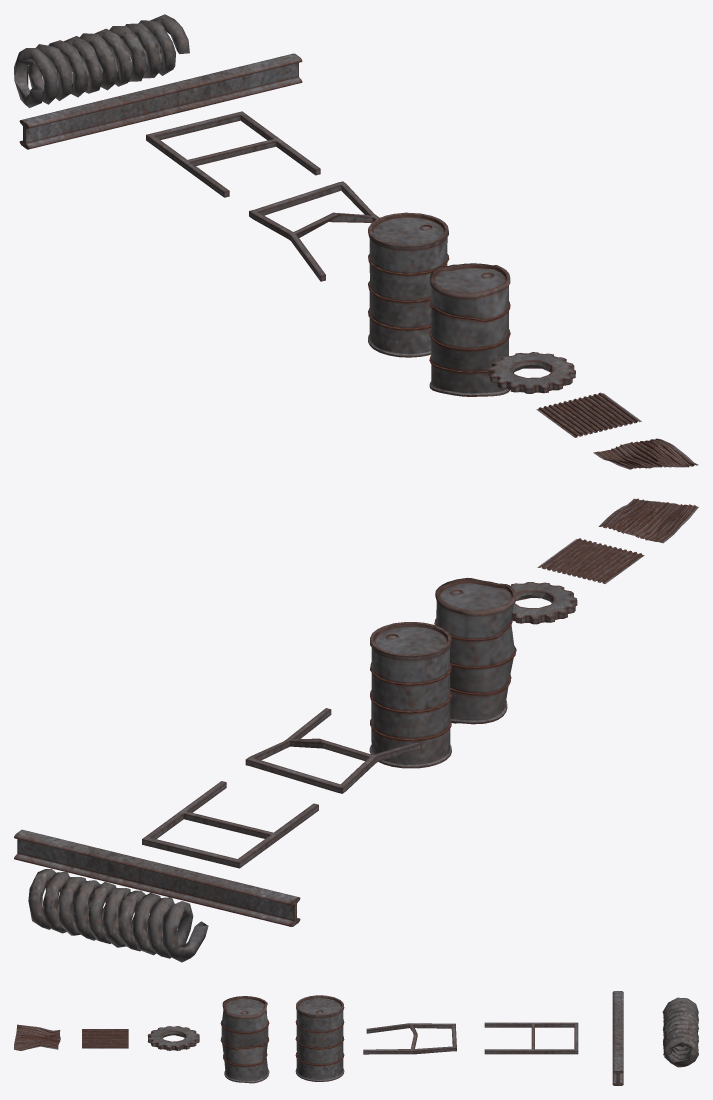
Rendered from junkyard_props.glb.
3 renders of one model, top to bottom at view 1: azimuth 30°, elevation 25°; view 2: azimuth 150°, elevation 25°; view 3: azimuth 270°, elevation 25°, orthographic. The views are drawn at different scales.
Visible parts, largest first — view 1: Barrel v2.001, Metal spring v1.001, Barrel v1 _Barrel v1 low poly_0, Metal plank v1.001, Metal peice 2 v1.001, Metal peice 2 v2.001, Gear v1.001, Metal sheet v1.001, Metal sheet v2.001; view 2: Barrel v1 _Barrel v1 low poly_0, Metal spring v1.001, Barrel v2.001, Metal plank v1.001, Metal peice 2 v1.001, Metal peice 2 v2.001, Metal sheet v1.001, Metal sheet v2.001, Gear v1.001; view 3: Barrel v1 _Barrel v1 low poly_0, Barrel v2.001, Metal spring v1.001, Metal peice 2 v1.001, Metal peice 2 v2.001, Metal plank v1.001, Metal sheet v2.001, Gear v1.001, Metal sheet v1.001.
Part boxes in pixels (x1=…): Barrel v2.001: x1=429, y1=263, x2=510, y2=396; Metal spring v1.001: x1=14, y1=14, x2=189, y2=107; Barrel v1 _Barrel v1 low poly_0: x1=368, y1=212, x2=449, y2=357; Metal plank v1.001: x1=19, y1=53, x2=302, y2=149; Metal peice 2 v1.001: x1=146, y1=111, x2=320, y2=197; Metal peice 2 v2.001: x1=249, y1=181, x2=379, y2=281; Gear v1.001: x1=488, y1=352, x2=575, y2=393; Metal sheet v1.001: x1=536, y1=392, x2=641, y2=437; Metal sheet v2.001: x1=593, y1=438, x2=698, y2=469; Barrel v1 _Barrel v1 low poly_0: x1=369, y1=622, x2=451, y2=768; Metal spring v1.001: x1=28, y1=868, x2=208, y2=962; Barrel v2.001: x1=434, y1=577, x2=516, y2=724; Metal plank v1.001: x1=14, y1=829, x2=300, y2=926; Metal peice 2 v1.001: x1=142, y1=781, x2=318, y2=868; Metal peice 2 v2.001: x1=245, y1=708, x2=421, y2=793; Metal sheet v1.001: x1=537, y1=538, x2=644, y2=583; Metal sheet v2.001: x1=598, y1=498, x2=698, y2=543; Gear v1.001: x1=511, y1=582, x2=577, y2=624; Barrel v1 _Barrel v1 low poly_0: x1=295, y1=995, x2=344, y2=1081; Barrel v2.001: x1=220, y1=996, x2=269, y2=1083; Metal spring v1.001: x1=662, y1=997, x2=698, y2=1067; Metal peice 2 v1.001: x1=484, y1=1022, x2=578, y2=1054; Metal peice 2 v2.001: x1=363, y1=1023, x2=456, y2=1054; Metal plank v1.001: x1=612, y1=991, x2=623, y2=1085; Metal sheet v2.001: x1=14, y1=1024, x2=60, y2=1050; Gear v1.001: x1=147, y1=1026, x2=199, y2=1050; Metal sheet v1.001: x1=82, y1=1029, x2=128, y2=1048.
Size of the model in its own units: 8.13 by 3.27 by 29.44.
9 materials, 9 textured.
